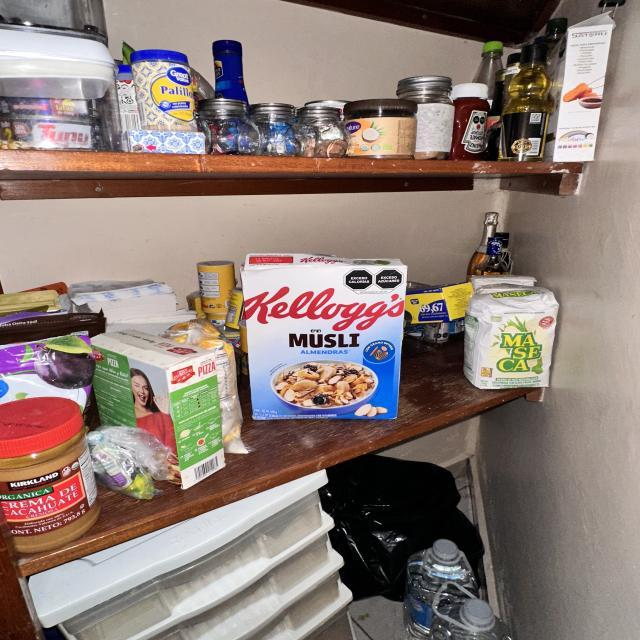hidden camera: (314, 396, 325, 405)
